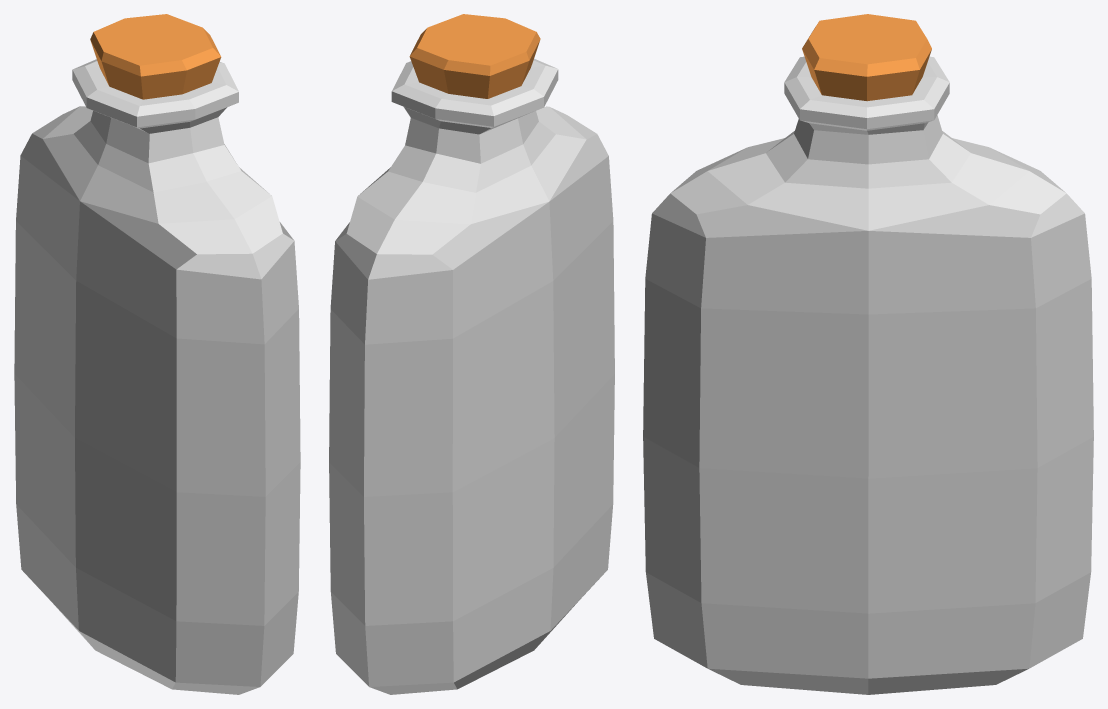
The model's file is Potion2.fbx.
3 views of the same model, side by side, from view 1: azimuth 30°, elevation 25°; view 2: azimuth 150°, elevation 25°; view 3: azimuth 270°, elevation 25° (orthographic). The views are drawn at different scales.
Visible parts, largest first — view 1: Flask, Cork; view 2: Flask, Cork; view 3: Flask, Cork.
Boxes of the visible parts, x1=… form: Flask: x1=14, y1=59, x2=300, y2=694; Cork: x1=90, y1=14, x2=221, y2=99; Flask: x1=329, y1=58, x2=614, y2=694; Cork: x1=409, y1=14, x2=540, y2=98; Flask: x1=643, y1=56, x2=1093, y2=694; Cork: x1=802, y1=14, x2=931, y2=101.
Size of the model in its own units: 88.14 by 306 by 200.
